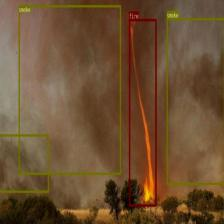fire: (129, 18, 156, 206)
smoke: (18, 5, 121, 174), (166, 18, 224, 184), (0, 134, 49, 192)
